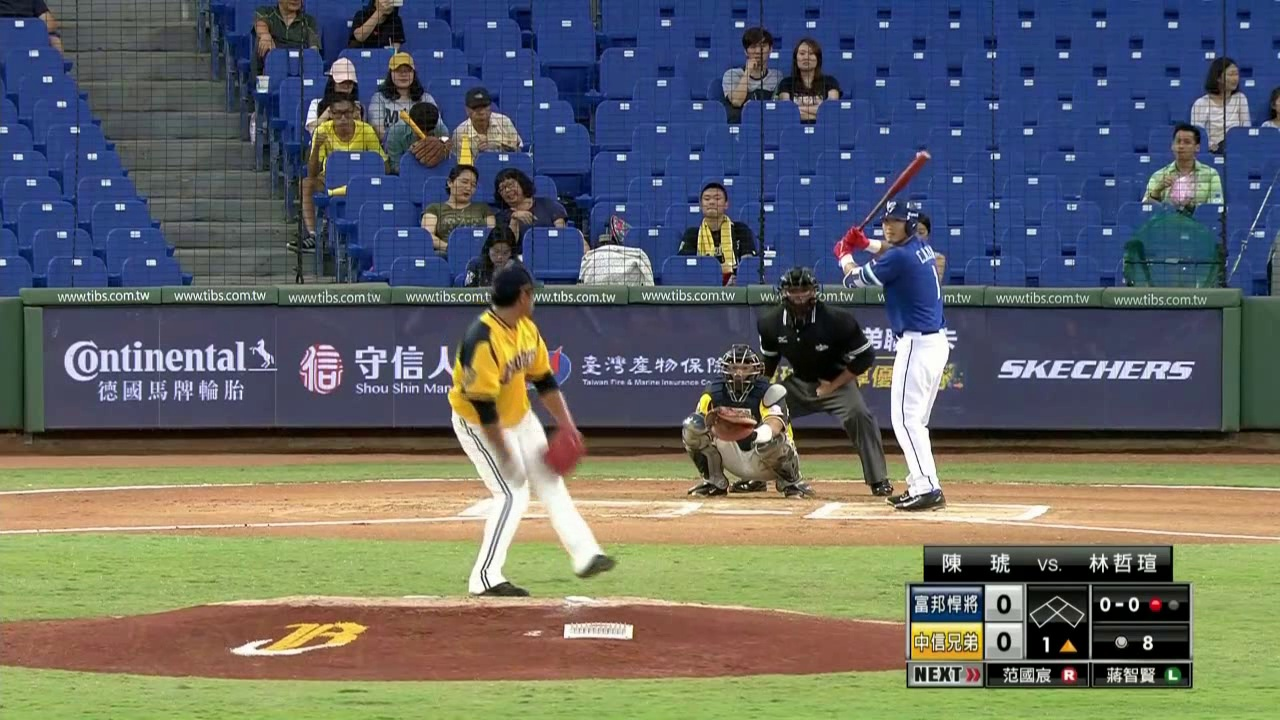ball: (507, 473, 528, 485)
base: (1026, 590, 1087, 631)
bat: (854, 154, 924, 231)
out: (1144, 593, 1182, 615)
score1: (986, 588, 1020, 620)
score2: (988, 625, 1021, 656)
session: (1032, 630, 1082, 657)
strikeball: (1092, 588, 1142, 619)
total: (1105, 624, 1165, 657)
